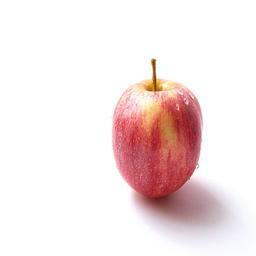apple: (110, 71, 204, 200)
